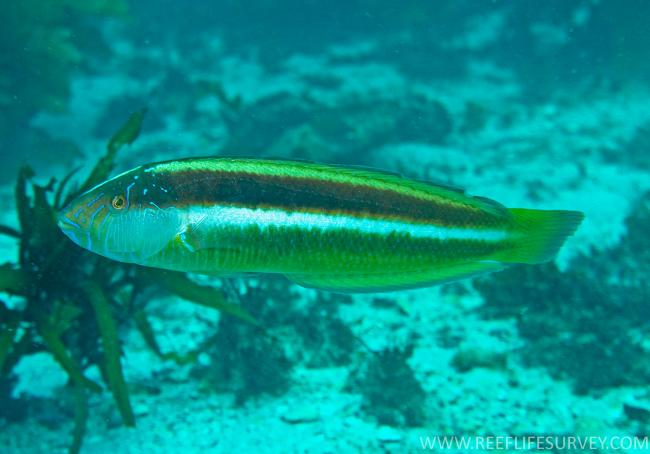fish: (55, 157, 586, 293)
